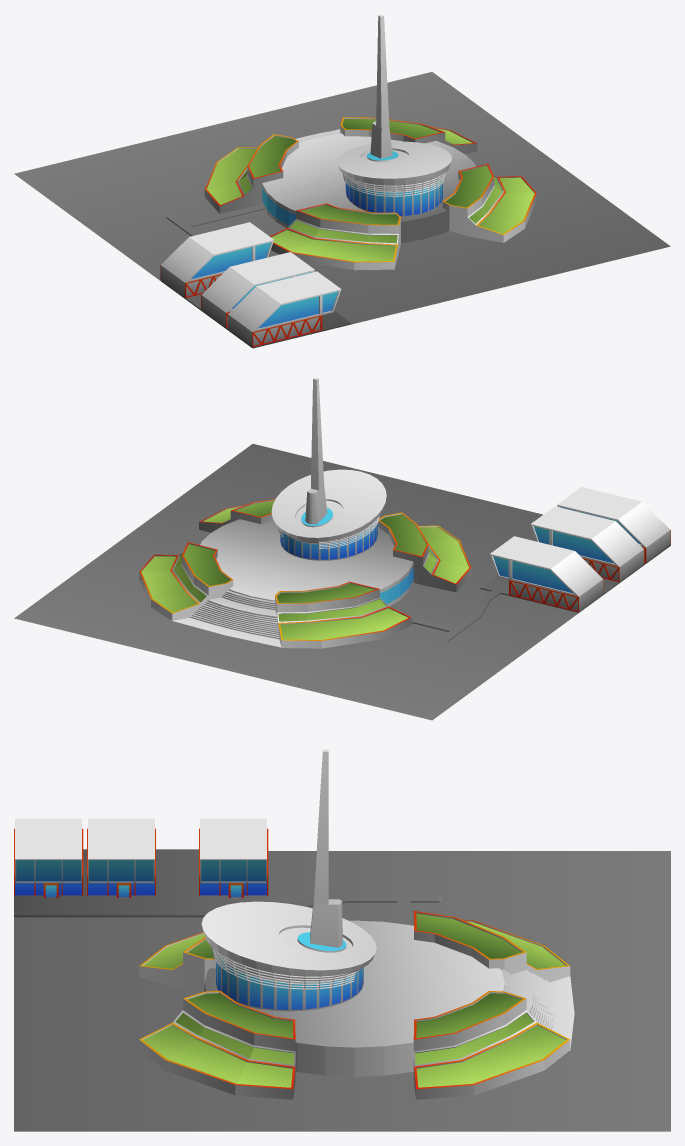
Rendered from Gedung BTP.fbx.
3 views of the same model, one above another, from view 1: azimuth 30°, elevation 25°; view 2: azimuth 150°, elevation 25°; view 3: azimuth 270°, elevation 25° (orthographic). The views are drawn at different scales.
Visible parts, largest first — view 1: Plane.013; view 2: Plane.013; view 3: Plane.013.
Part boxes in pixels (x1,y1,x2,y2): Plane.013: (14,14,670,348); Plane.013: (14,377,670,720); Plane.013: (14,749,670,1131).
Bounding box in the file's own units: 10307 × 4498 × 10192.
Materials: 1 (1 with a texture image).
